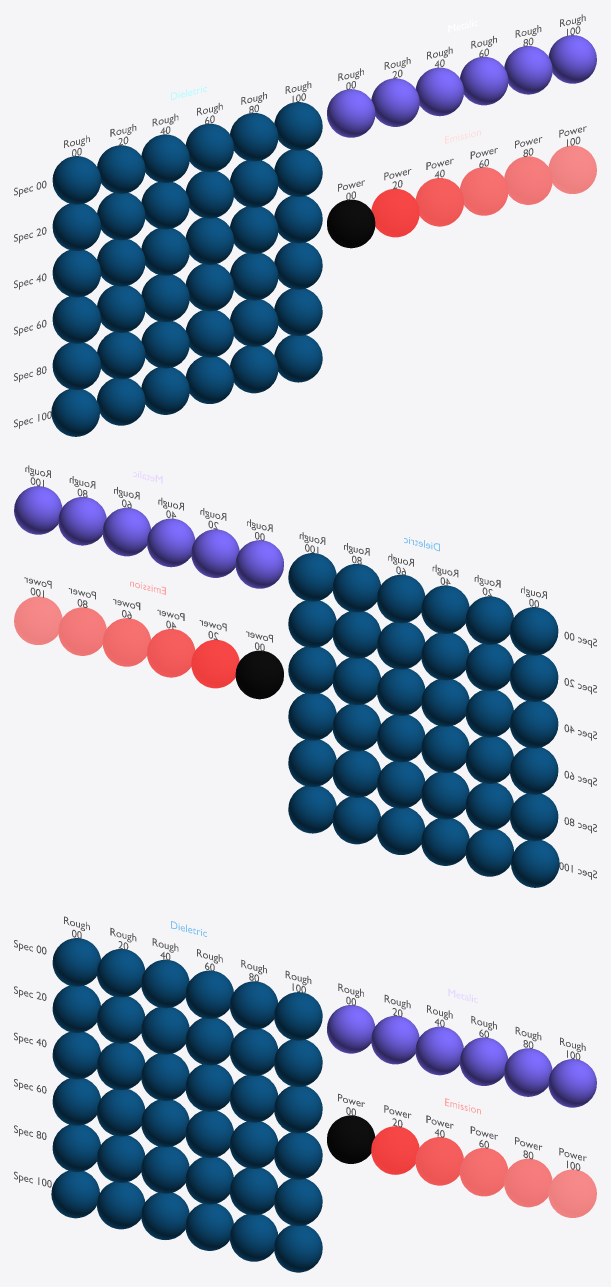
The model's file is pbr_chart.glb.
3 views of the same model, one above another, from view 1: azimuth 30°, elevation 25°; view 2: azimuth 150°, elevation 25°; view 3: azimuth 330°, elevation 25° (orthographic).
Visible parts, largest first — view 1: Object_4, Object_12, Object_11, Object_13, Object_15, Object_16, Object_17, Object_14, Object_7, Object_40, Object_6, Object_33 (+41 smaller); view 2: Object_4, Object_12, Object_11, Object_13, Object_15, Object_16, Object_17, Object_14, Object_7, Object_40, Object_6, Object_33 (+41 smaller); view 3: Object_5, Object_19, Object_18, Object_21, Object_24, Object_20, Object_22, Object_23, Object_33, Object_9, Object_12, Object_7 (+41 smaller).
Boxes of the visible parts, x1=… form: Object_4: x1=327, y1=199, x2=375, y2=248; Object_12: x1=52, y1=156, x2=100, y2=204; Object_11: x1=327, y1=89, x2=375, y2=137; Object_13: x1=51, y1=389, x2=99, y2=436; Object_15: x1=52, y1=250, x2=100, y2=297; Object_16: x1=52, y1=296, x2=100, y2=343; Object_17: x1=52, y1=342, x2=100, y2=390; Object_14: x1=52, y1=203, x2=100, y2=250; Object_7: x1=415, y1=178, x2=463, y2=226; Object_40: x1=185, y1=123, x2=233, y2=172; Object_6: x1=371, y1=188, x2=419, y2=237; Object_33: x1=141, y1=134, x2=189, y2=182; Object_4: x1=235, y1=650, x2=283, y2=699; Object_12: x1=510, y1=607, x2=558, y2=655; Object_11: x1=235, y1=540, x2=283, y2=588; Object_13: x1=511, y1=840, x2=559, y2=887; Object_15: x1=510, y1=701, x2=558, y2=748; Object_16: x1=510, y1=747, x2=558, y2=794; Object_17: x1=510, y1=793, x2=558, y2=841; Object_14: x1=510, y1=654, x2=558, y2=701; Object_7: x1=147, y1=629, x2=195, y2=677; Object_40: x1=377, y1=574, x2=425, y2=623; Object_6: x1=191, y1=639, x2=239, y2=688; Object_33: x1=421, y1=585, x2=469, y2=633; Object_5: x1=548, y1=1169, x2=596, y2=1217; Object_19: x1=274, y1=992, x2=322, y2=1040; Object_18: x1=548, y1=1059, x2=596, y2=1107; Object_21: x1=274, y1=1039, x2=322, y2=1086; Object_24: x1=274, y1=1178, x2=322, y2=1226; Object_20: x1=274, y1=1225, x2=322, y2=1272; Object_22: x1=274, y1=1086, x2=322, y2=1133; Object_23: x1=274, y1=1132, x2=322, y2=1179; Object_33: x1=141, y1=959, x2=189, y2=1008; Object_9: x1=504, y1=1158, x2=552, y2=1207; Object_12: x1=52, y1=938, x2=100, y2=986; Object_7: x1=415, y1=1137, x2=463, y2=1185.
Size of the model in its own units: 54.96 by 28.84 by 4.
